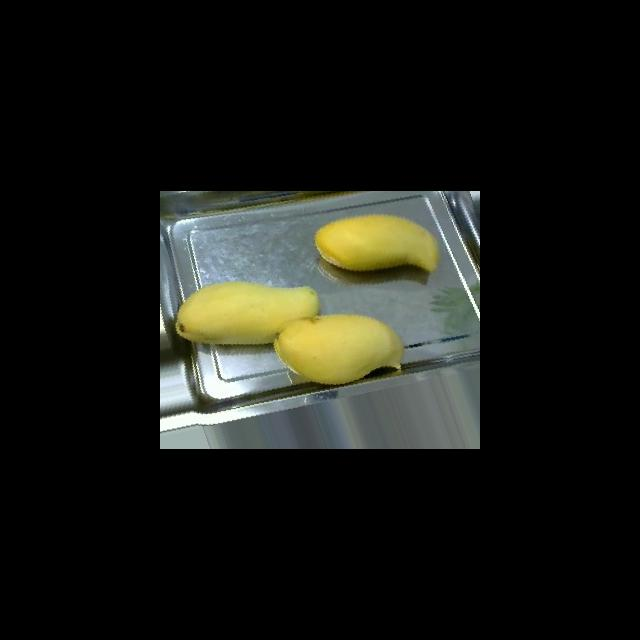mango: (174, 280, 320, 345), (273, 313, 404, 385), (313, 213, 439, 272)
